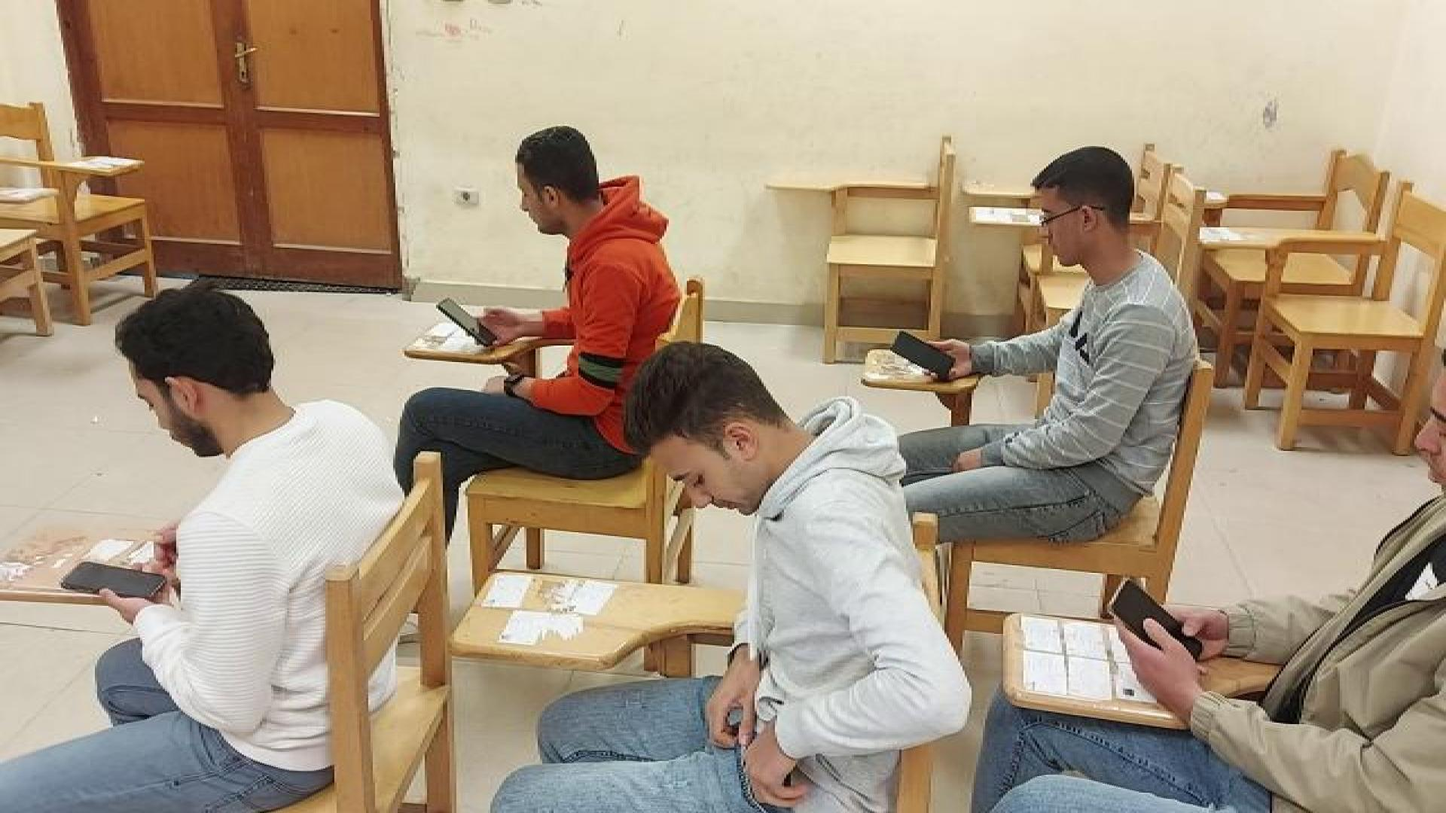phone: (1106, 578, 1208, 667), (60, 557, 173, 611), (430, 294, 507, 347), (889, 330, 961, 373)
